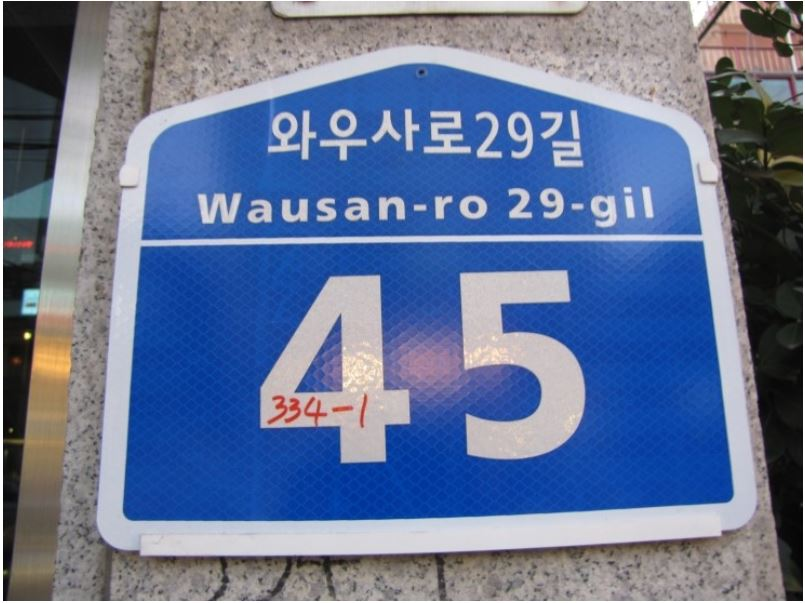building_license_plate1: (97, 44, 758, 558)
